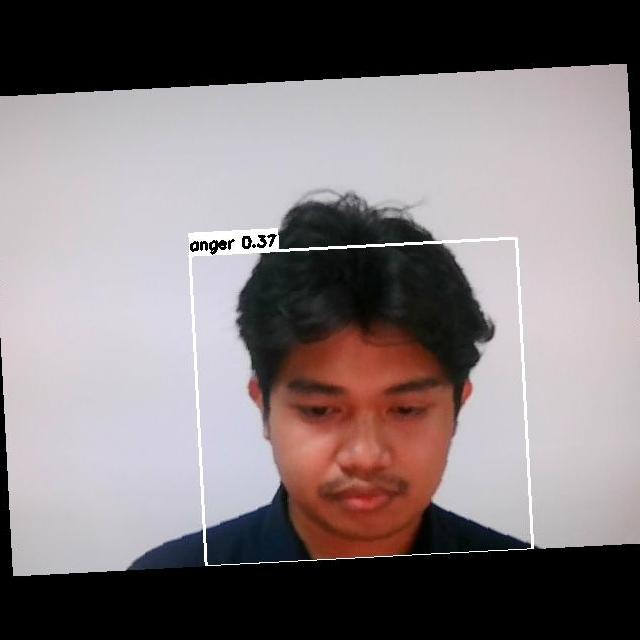Natural: (265, 360, 477, 522)
